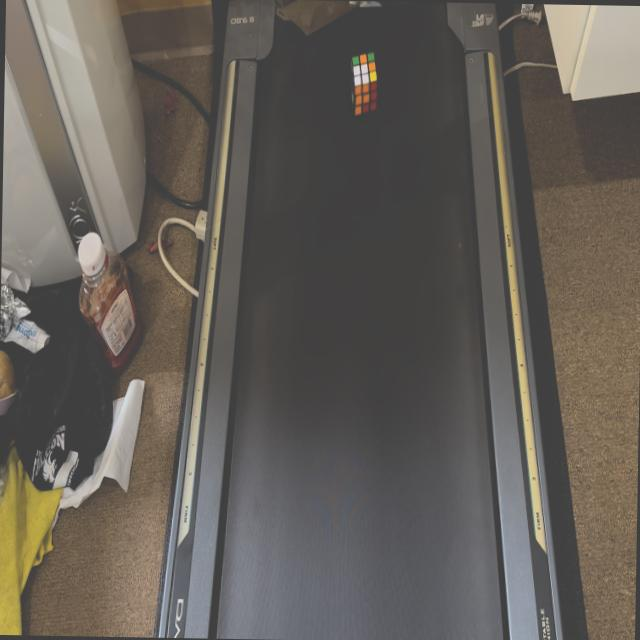Trash: (346, 49, 382, 122)
